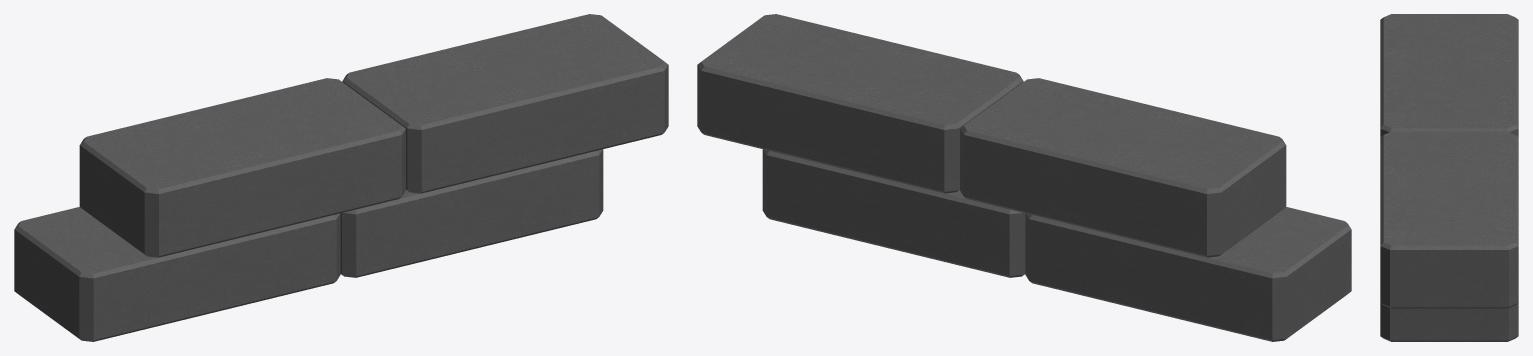
The model's file is brickseg.FBX.
The picture shows the model from 3 angles, left to right: view 1: azimuth 30°, elevation 25°; view 2: azimuth 150°, elevation 25°; view 3: azimuth 270°, elevation 25°; orthographic projection. The views are drawn at different scales.
Parts seen in each view (by area): view 1: brickseg; view 2: brickseg; view 3: brickseg.
Part boxes in pixels (x1=…): brickseg: x1=14, y1=14, x2=668, y2=341; brickseg: x1=697, y1=14, x2=1351, y2=341; brickseg: x1=1380, y1=14, x2=1518, y2=341.
Bounding box in the file's own units: 45.1 × 10 × 10.
1 material, 1 textured.
